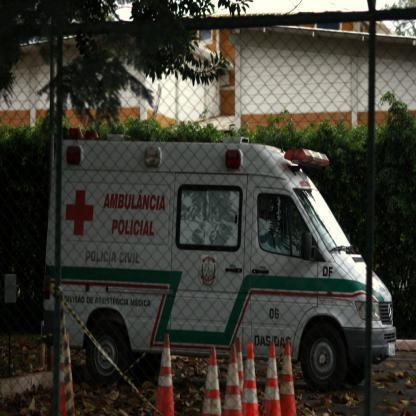ambulance_off: (44, 124, 394, 392)
